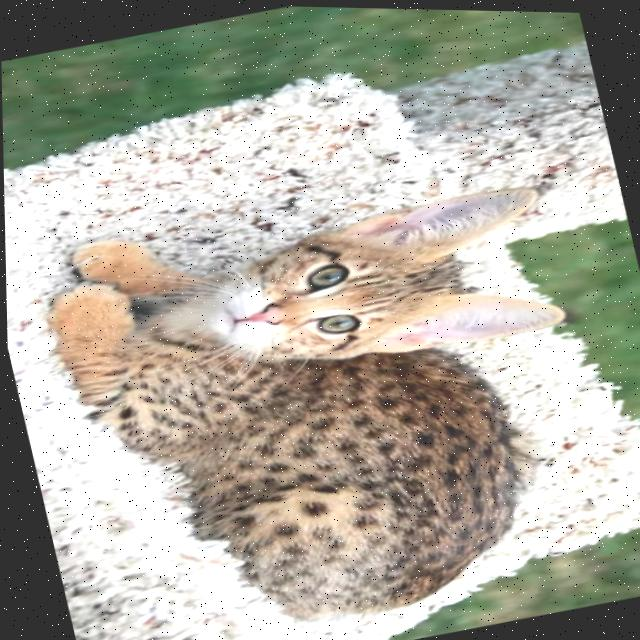Savannah: (18, 140, 629, 640)
